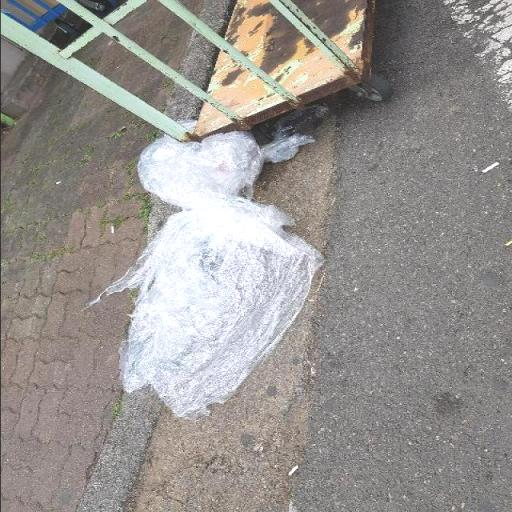polythene: (90, 126, 322, 418)
